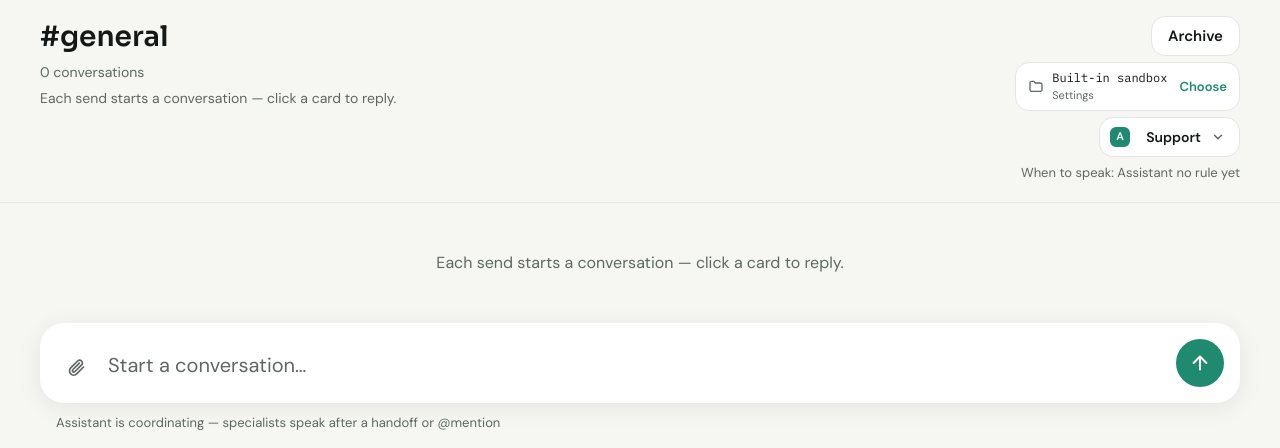
channels/[id]/+page.svelte › opens an @mention picker for team agents and inserts from a member disc
expect the text "Assistant is coordinating" is shown: met, box [56,414,500,431]
Type "@" into the text box with placeholder "Start a conversation…" at (636, 365), box [108,343,1164,387]
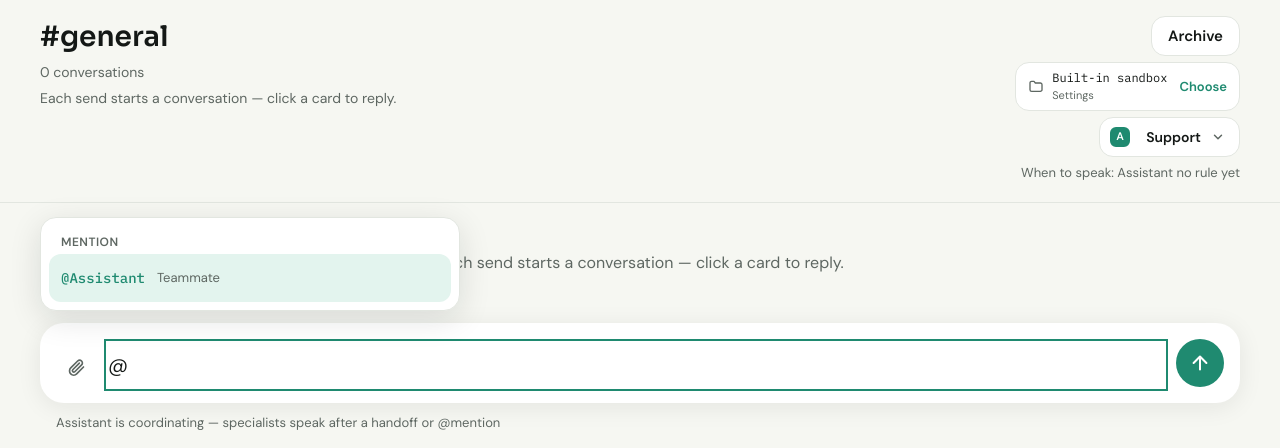
expect the option "@Assistant Teammate" is shown: met, box [49,254,451,302]
Click the button named "Mention Assistant" at (1120, 136), box [1108,124,1132,148]
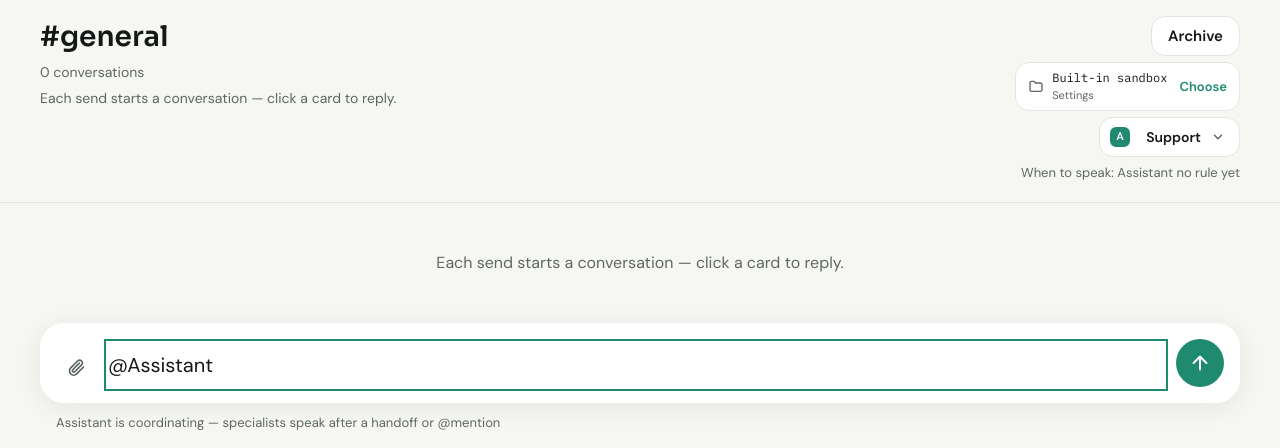
expect the text box with placeholder "Start a conversation…" holds "@Assistant ": met, box [108,343,1164,387]
